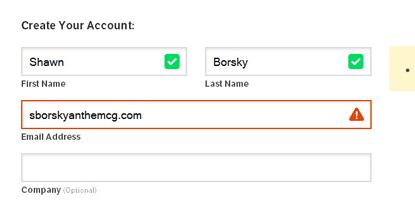field: (19, 99, 373, 130), (21, 152, 373, 183), (203, 46, 373, 78), (20, 46, 188, 77)
field_with_label: (18, 151, 375, 197), (18, 97, 376, 140), (201, 45, 375, 89), (18, 45, 191, 89)
